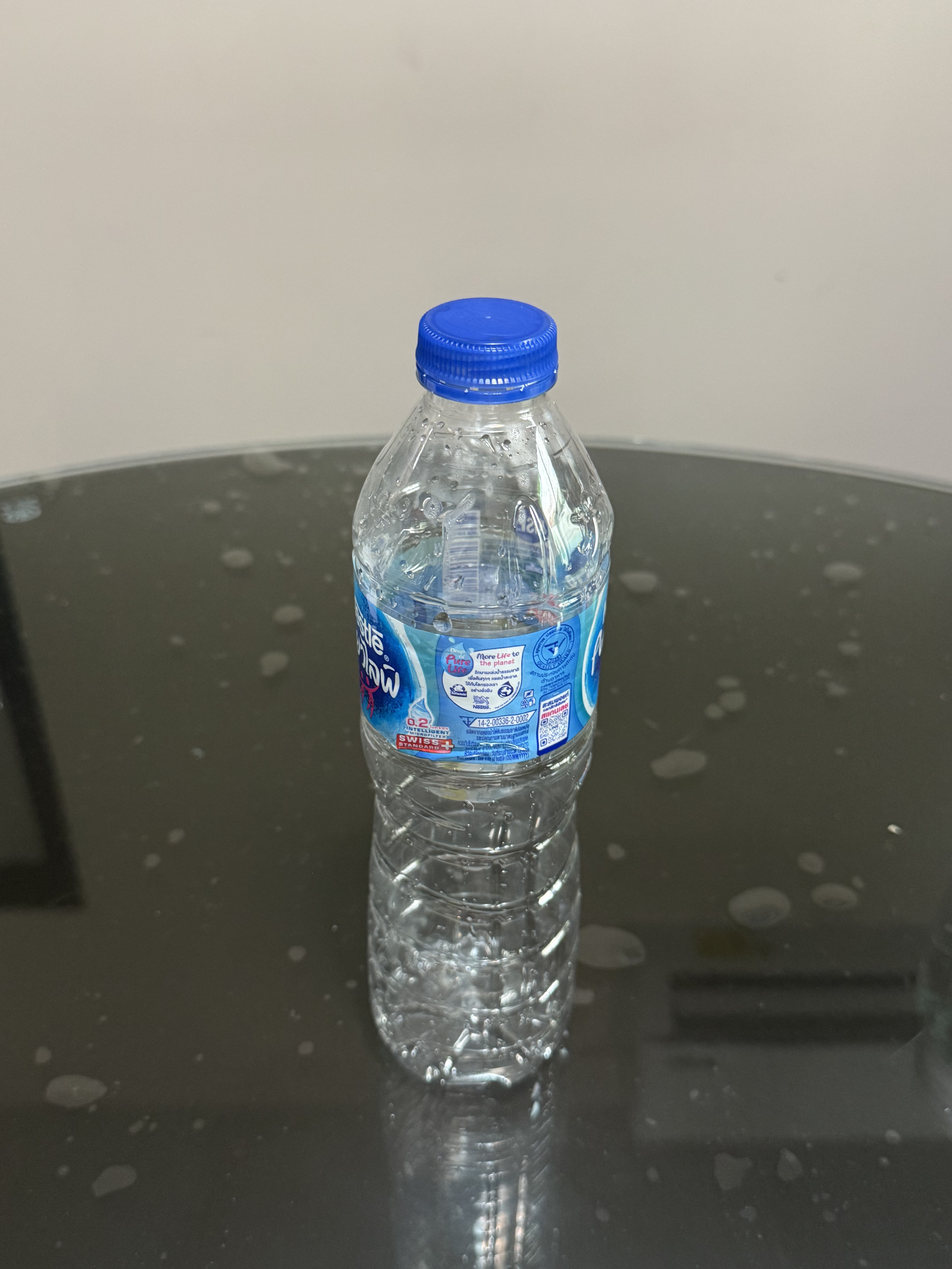closed_cap: (413, 294, 560, 401)
